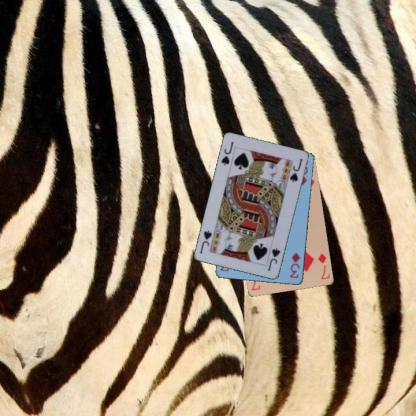3d: (287, 250, 301, 280)
7d: (316, 251, 331, 281)
Js: (266, 246, 282, 272), (219, 140, 235, 166)
